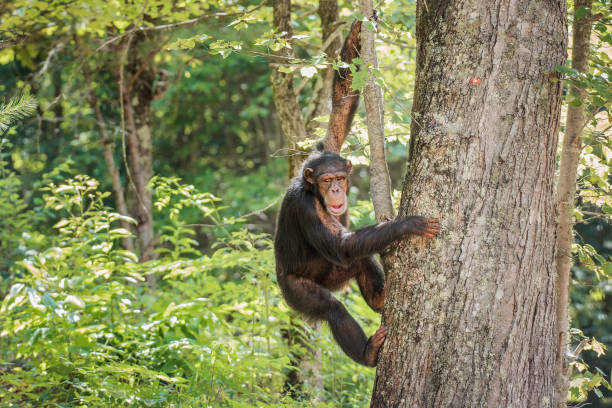chimpanzee: (295, 142, 359, 230)
